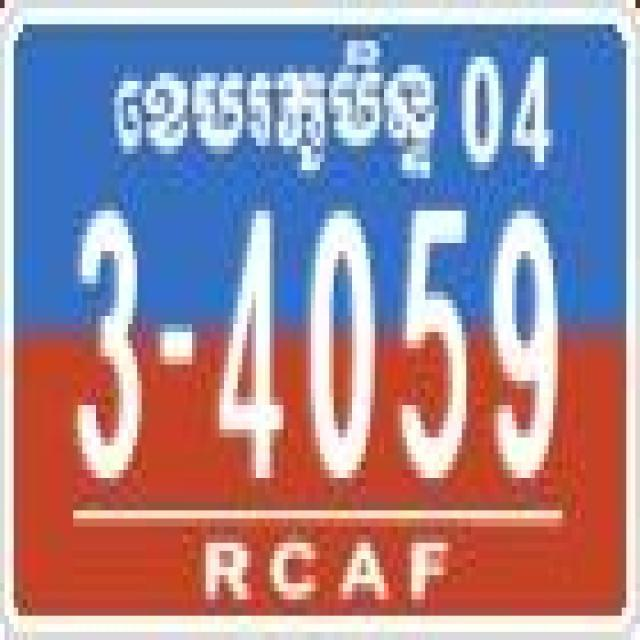RCAF: (105, 32, 438, 194)
